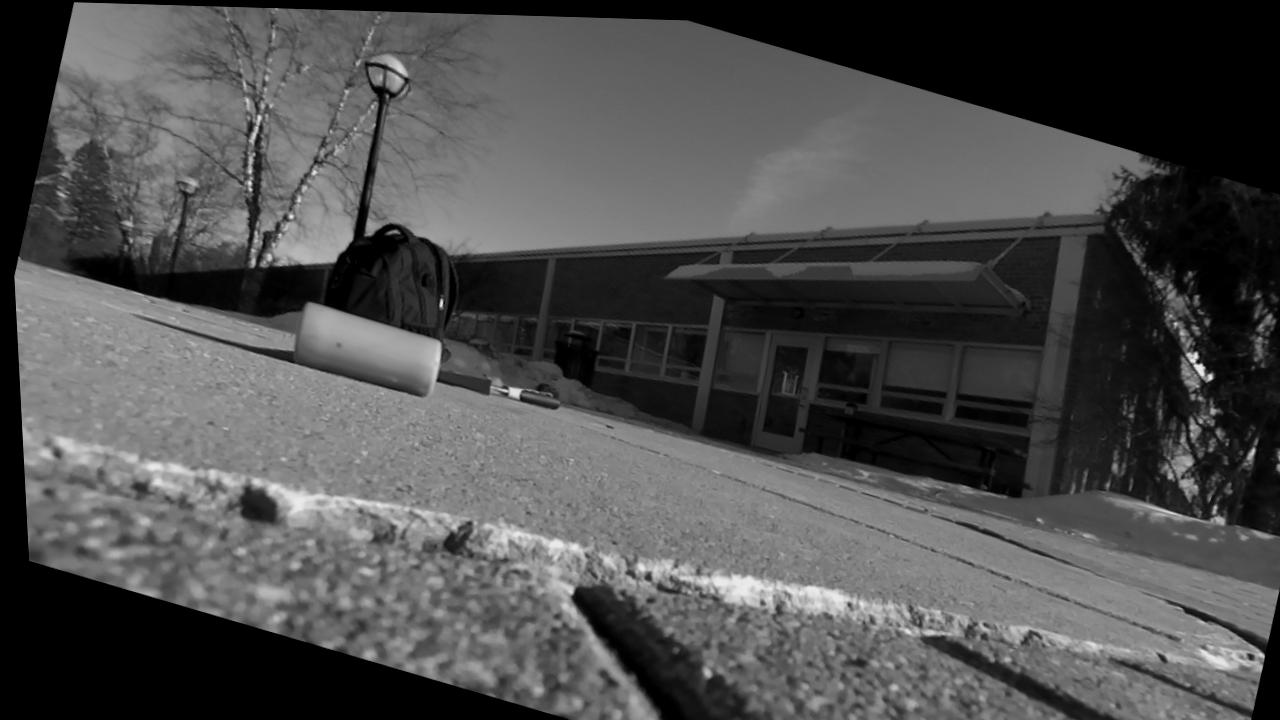mallet: (293, 302, 442, 396)
pick: (438, 370, 559, 407)
